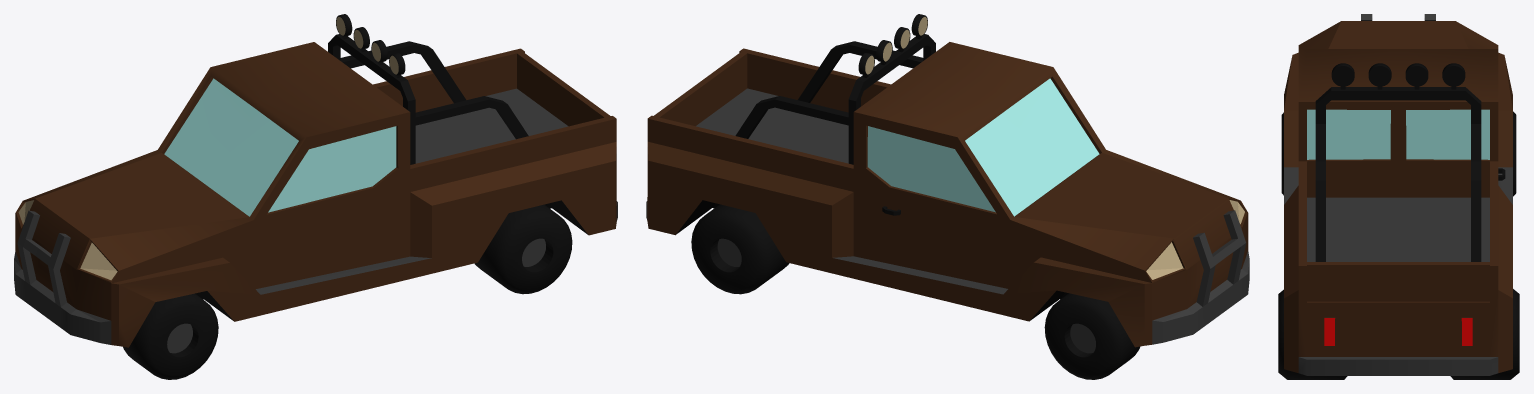
File: _arrinha.fbx
The picture shows the model from 3 angles, left to right: view 1: azimuth 30°, elevation 25°; view 2: azimuth 150°, elevation 25°; view 3: azimuth 270°, elevation 25°; orthographic projection. The views are drawn at different scales.
Parts seen in each view (by area): view 1: Chassis, RodasTrás, RodaFrenteEsquerdaT, RollCage, FaroisFrentet; view 2: Chassis, RodasTrás, RodaFrenteDireita001, RollCage, FaroisFrentet; view 3: Chassis, RollCage, FaroisFrentet, RodasTrás, RodaFrenteDireita001, RodaFrenteEsquerdaT.
Boxes of the visible parts, bbox=[...] form: Chassis: bbox=[14, 42, 617, 347]; RodasTrás: bbox=[474, 204, 572, 294]; RodaFrenteEsquerdaT: bbox=[123, 293, 218, 379]; RollCage: bbox=[328, 34, 528, 164]; FaroisFrentet: bbox=[336, 14, 405, 77]; Chassis: bbox=[646, 42, 1249, 347]; RodasTrás: bbox=[691, 204, 789, 294]; RodaFrenteDireita001: bbox=[1044, 293, 1140, 379]; RollCage: bbox=[735, 34, 935, 164]; FaroisFrentet: bbox=[858, 14, 927, 77]; Chassis: bbox=[1284, 14, 1512, 375]; RollCage: bbox=[1315, 87, 1481, 261]; FaroisFrentet: bbox=[1331, 63, 1465, 89]; RodasTrás: bbox=[1278, 289, 1519, 379]; RodaFrenteDireita001: bbox=[1513, 111, 1516, 196]; RodaFrenteEsquerdaT: bbox=[1281, 112, 1283, 195].
Size of the model in its own units: 28.98 by 12.63 by 10.82.
